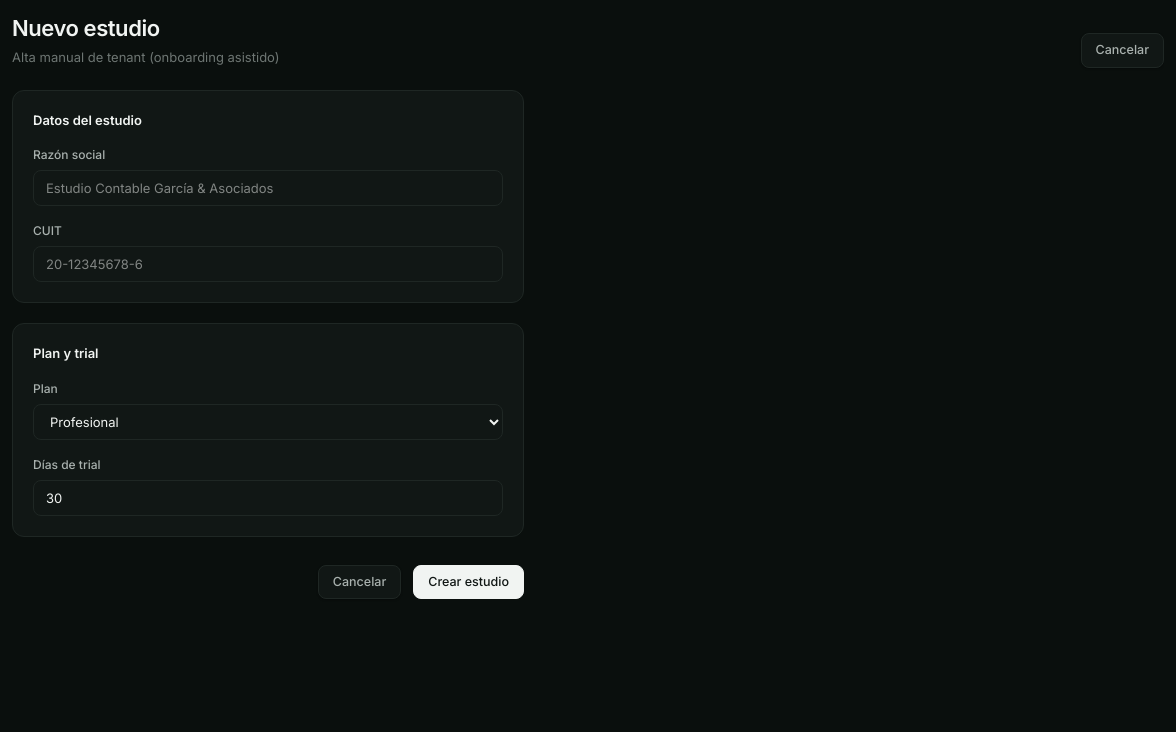
it: NuevoEstudioPage › shows error on failed submission
The width and height of the screenshot is (1176, 732).
Type "Estudio Test" into the field labelled "Razón social" at (268, 188), box [33,170,503,206]
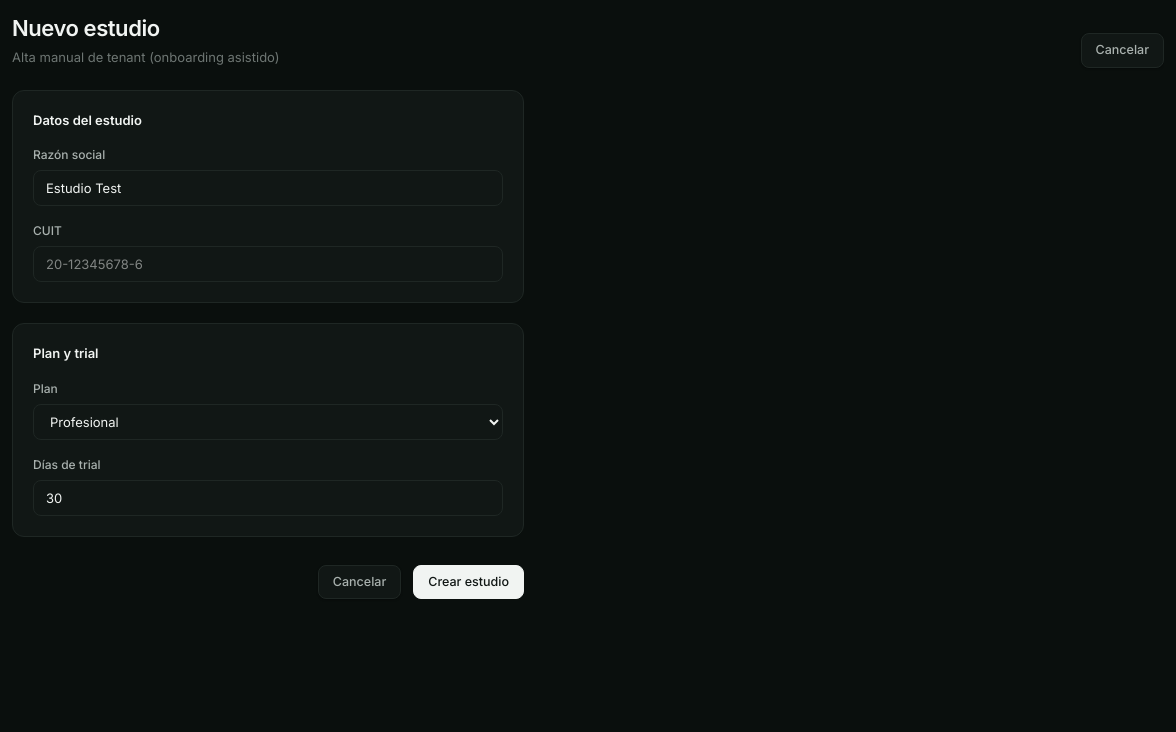
Type "20-99999999-0" into the field labelled "CUIT" at (268, 264), box [33,246,503,282]
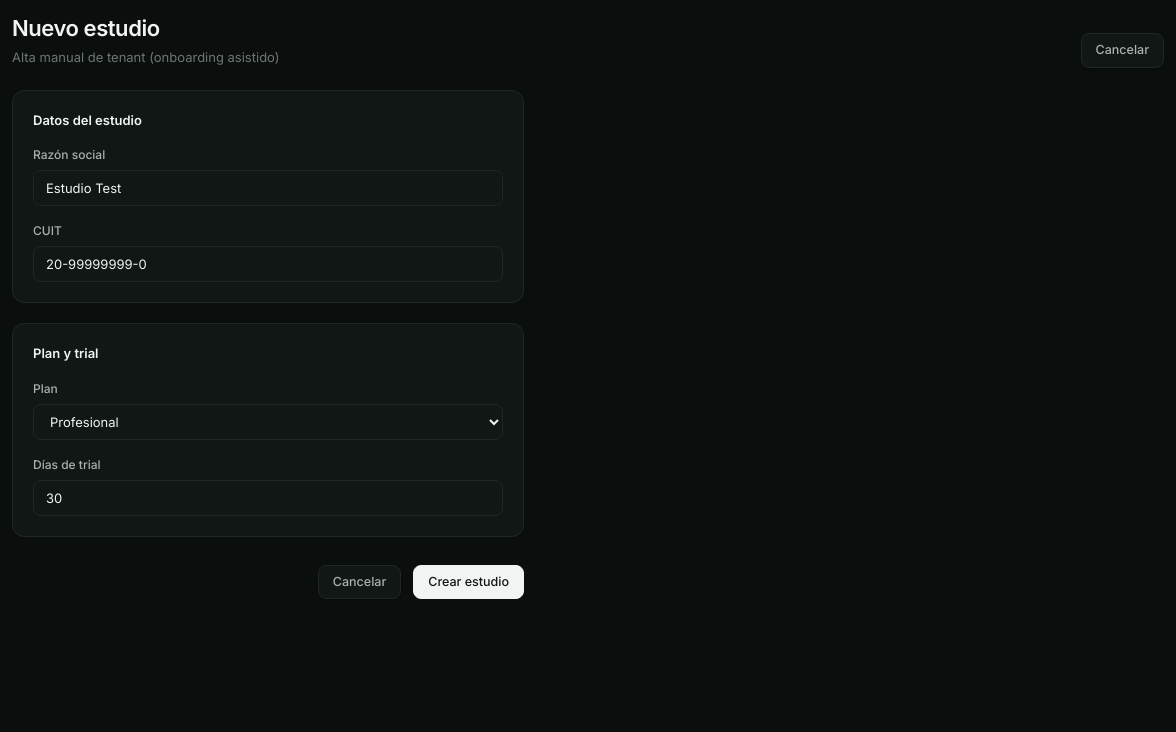
Click the button "Crear estudio" at (469, 582), box [413,564,524,599]
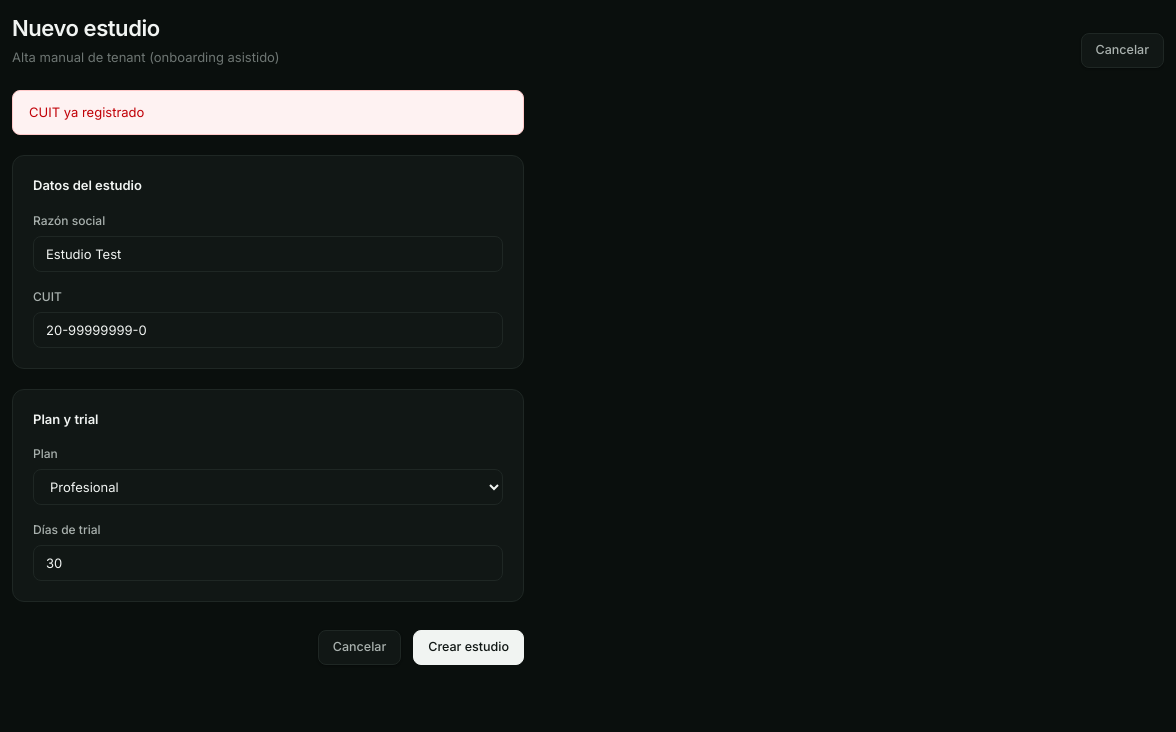
Expected: the text "CUIT ya registrado" is shown, [12,90,524,135]
